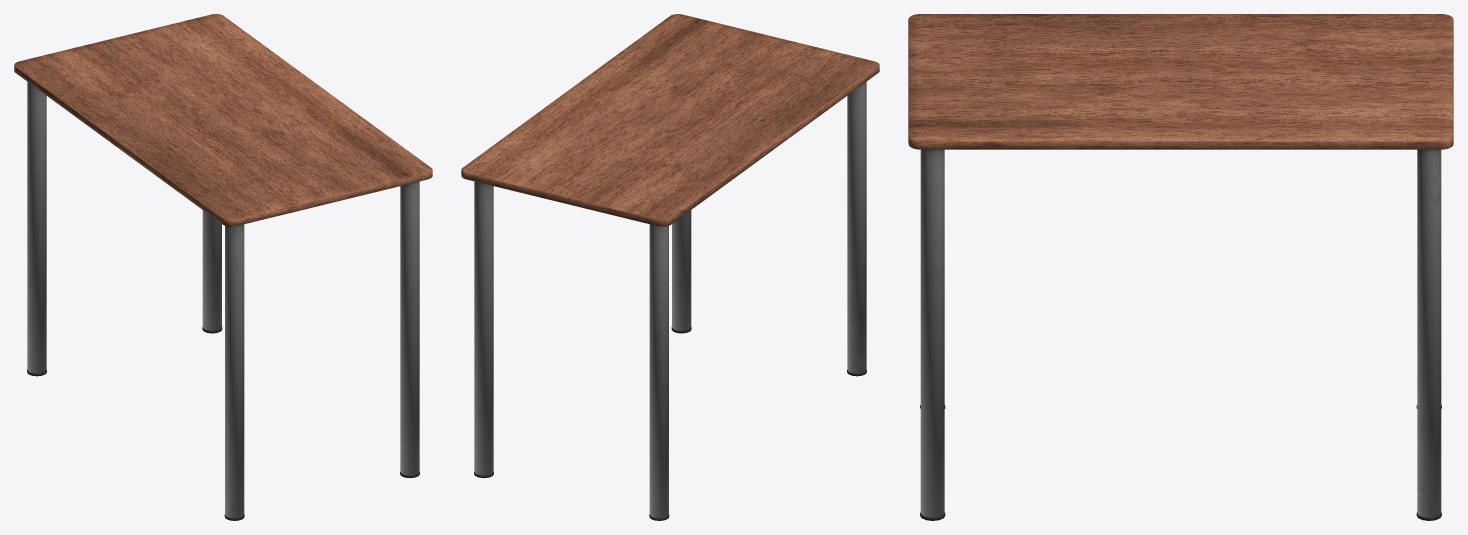
Rendered from school_desk.fbx.
The picture shows the model from 3 angles, left to right: view 1: azimuth 30°, elevation 25°; view 2: azimuth 150°, elevation 25°; view 3: azimuth 270°, elevation 25°; orthographic projection. The views are drawn at different scales.
Visible parts, largest first — view 1: school_desk; view 2: school_desk; view 3: school_desk.
Boxes of the visible parts, x1,y1,x2,y2 form: school_desk: (14,14,432,520); school_desk: (461,14,879,520); school_desk: (908,14,1453,520).
Bounding box in the file's own units: 0.5 × 0.7 × 0.9.
